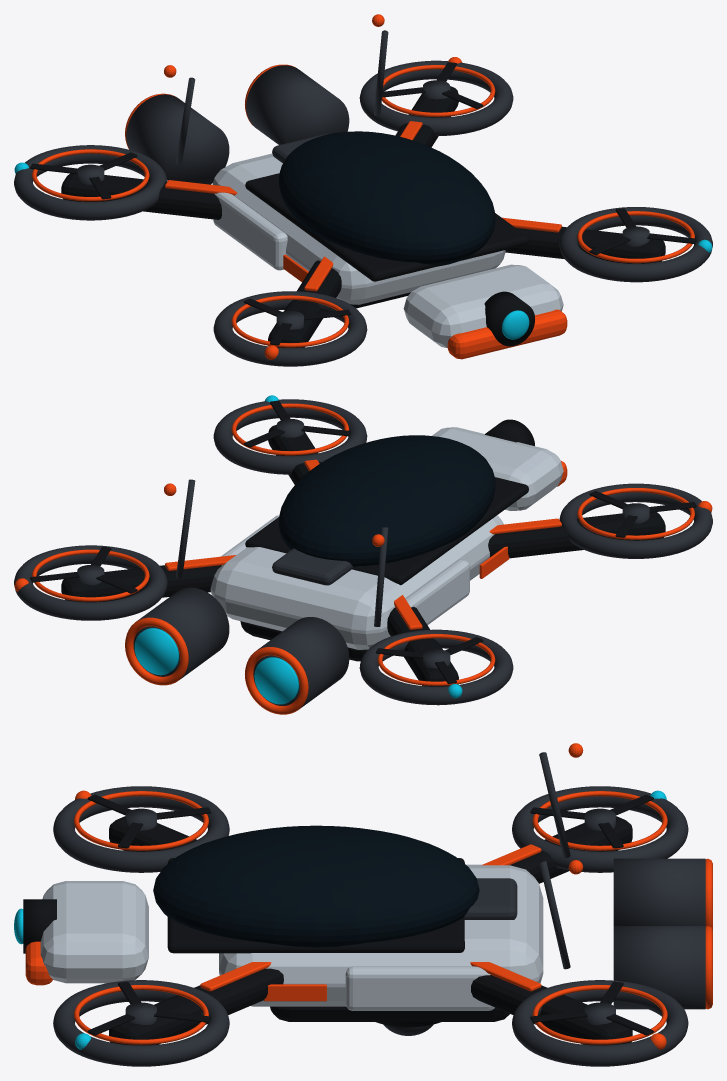
File: drone.obj
3 views of the same model, one above another, from view 1: azimuth 30°, elevation 25°; view 2: azimuth 150°, elevation 25°; view 3: azimuth 270°, elevation 25° (orthographic). The views are drawn at different scales.
Visible parts, largest first — view 1: Canopy, Hull_Main, Nose_Upper, Thruster_-1, Thruster_1, Rotor_Duct_3, Rotor_Duct_1, Rotor_Duct_0, Rotor_Duct_2, Canopy_Trim, Arm_1, Side_Plate_-1 (+13 smaller); view 2: Canopy, Hull_Main, Rotor_Duct_0, Rotor_Duct_2, Rotor_Duct_1, Rotor_Duct_3, Nose_Upper, Thruster_1, Thruster_-1, Arm_2, Canopy_Trim, Arm_0 (+18 smaller); view 3: Canopy, Hull_Main, Nose_Upper, Thruster_1, Rotor_Duct_3, Rotor_Duct_0, Thruster_-1, Side_Plate_1, Rotor_Duct_2, Rotor_Duct_1, Canopy_Trim, Arm_3 (+23 smaller).
Boxes of the visible parts, box(x1,y1,x2,y2) form: Canopy: box(279, 131, 495, 266); Hull_Main: box(212, 153, 505, 304); Nose_Upper: box(403, 264, 563, 347); Thruster_-1: box(126, 94, 229, 184); Thruster_1: box(246, 65, 349, 144); Rotor_Duct_3: box(559, 207, 712, 282); Rotor_Duct_1: box(14, 145, 167, 220); Rotor_Duct_0: box(359, 60, 513, 135); Rotor_Duct_2: box(213, 291, 367, 366); Canopy_Trim: box(245, 173, 528, 281); Arm_1: box(61, 173, 221, 219); Side_Plate_-1: box(213, 192, 287, 270); Canopy: box(279, 435, 495, 566); Hull_Main: box(210, 515, 503, 649); Rotor_Duct_0: box(14, 545, 167, 620); Rotor_Duct_2: box(559, 483, 712, 558); Rotor_Duct_1: box(359, 629, 513, 705); Rotor_Duct_3: box(213, 399, 367, 474); Nose_Upper: box(432, 427, 563, 510); Thruster_1: box(133, 587, 229, 679); Thruster_-1: box(253, 617, 349, 708); Arm_2: box(488, 512, 665, 558); Canopy_Trim: box(245, 477, 528, 585); Arm_0: box(61, 565, 222, 602); Canopy: box(153, 825, 479, 947); Hull_Main: box(219, 865, 543, 1006); Nose_Upper: box(40, 881, 148, 983); Thruster_1: box(613, 926, 705, 1009); Rotor_Duct_3: box(53, 980, 229, 1066); Rotor_Duct_0: box(512, 980, 688, 1066); Thruster_-1: box(613, 858, 705, 925); Side_Plate_1: box(345, 966, 494, 1010); Rotor_Duct_2: box(53, 786, 229, 872); Rotor_Duct_1: box(512, 786, 688, 872); Canopy_Trim: box(167, 858, 464, 953); Arm_3: box(109, 968, 283, 1045).
Bounding box in the file's own units: 3.04 × 1.22 × 3.34.
